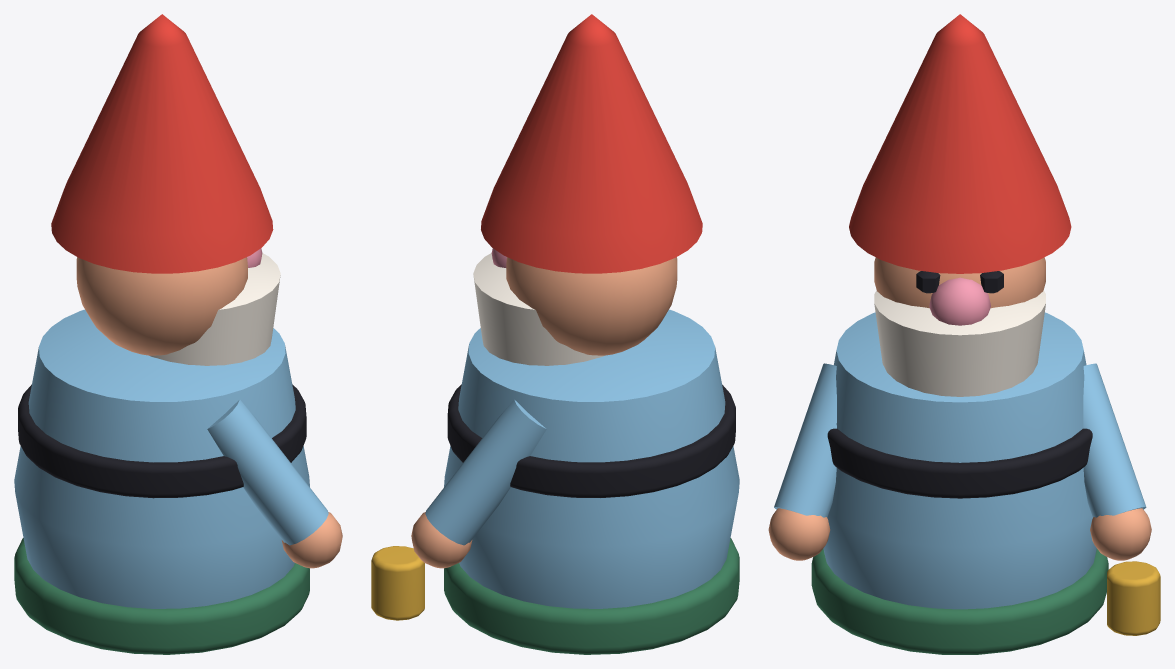
Rendered from gnome.glb.
3 renders of one model, left to right at view 1: azimuth 30°, elevation 25°; view 2: azimuth 150°, elevation 25°; view 3: azimuth 270°, elevation 25°, orthographic.
Visible parts, largest first — view 1: gnome; view 2: gnome; view 3: gnome.
Boxes of the visible parts, box(x1,y1,x2,y2) form: gnome: box(14, 14, 342, 654); gnome: box(371, 14, 739, 654); gnome: box(768, 14, 1160, 654).
Bounding box in the file's own units: 0.2418 × 0.52 × 0.317.
1 material, 1 textured.
